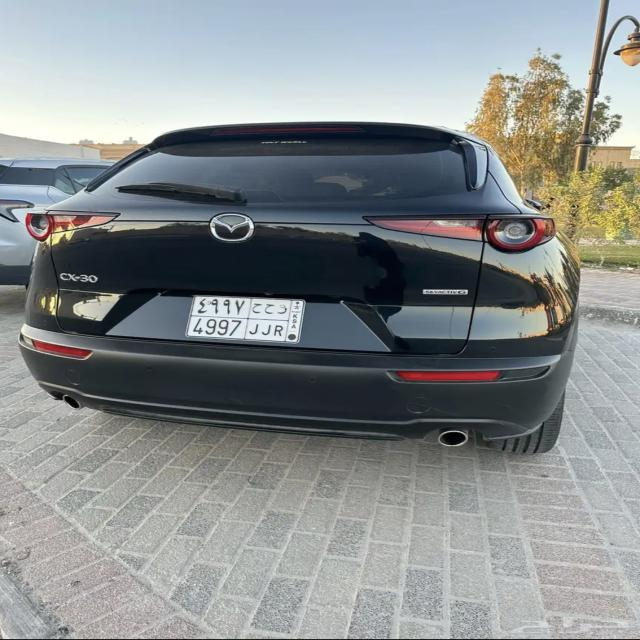license_plate: (190, 296, 304, 344)
